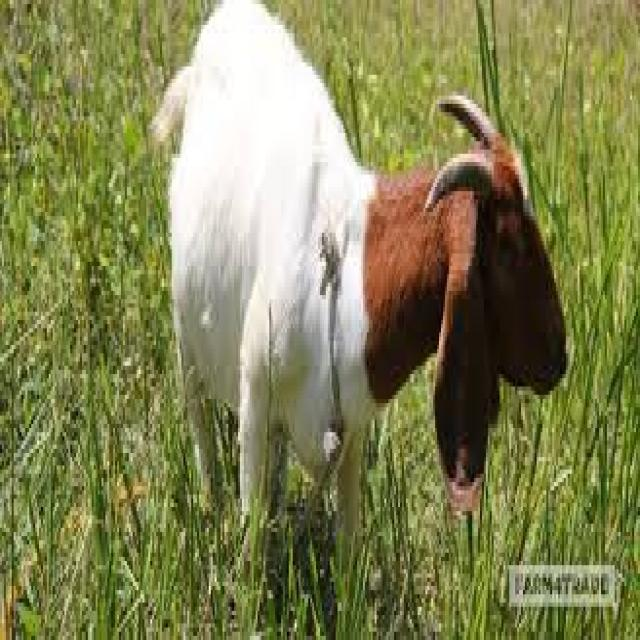Goat: (141, 8, 573, 591)
